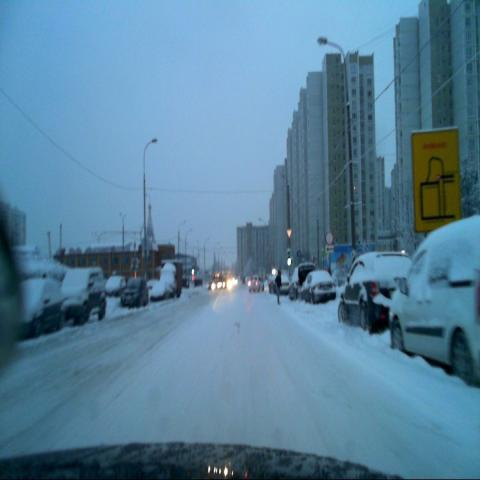3_2: (324, 229, 336, 244)
